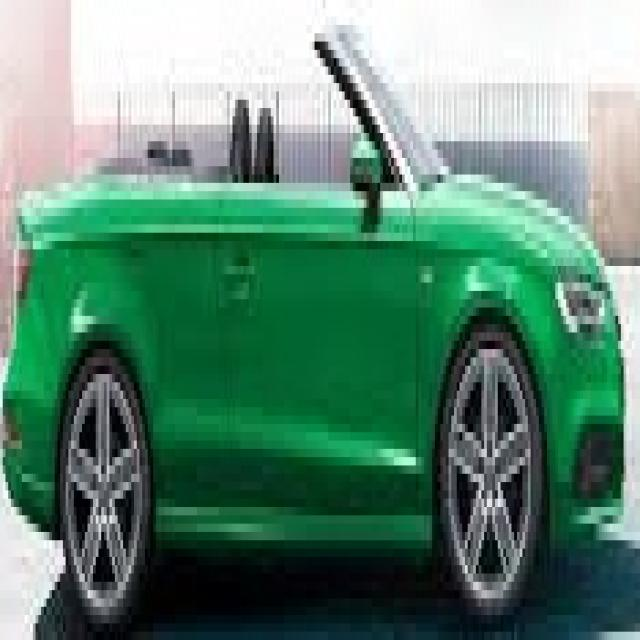green: (3, 29, 624, 626)
